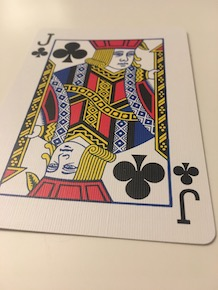JackOfClubs: (1, 21, 217, 249)
